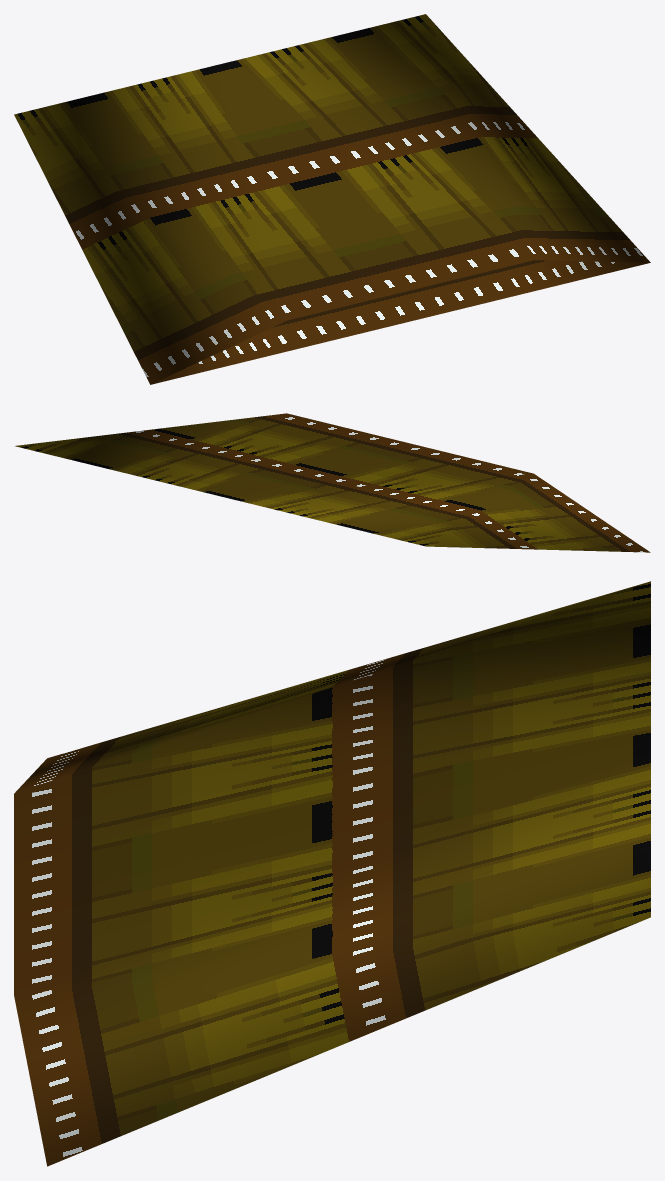
Rendered from 2332skirt00_r.gltf.
3 renders of one model, top to bottom at view 1: azimuth 30°, elevation 25°; view 2: azimuth 150°, elevation 25°; view 3: azimuth 270°, elevation 25°, orthographic. The views are drawn at different scales.
Parts seen in each view (by area): view 1: 2332skirt00_r; view 2: 2332skirt00_r; view 3: 2332skirt00_r.
Part boxes in pixels (x1,y1,x2,y2): 2332skirt00_r: (14, 14, 650, 384); 2332skirt00_r: (15, 413, 650, 552); 2332skirt00_r: (14, 581, 650, 1166).
Size of the model in its own units: 0.9868 by 0.24 by 0.6504.
1 material, 1 textured.
